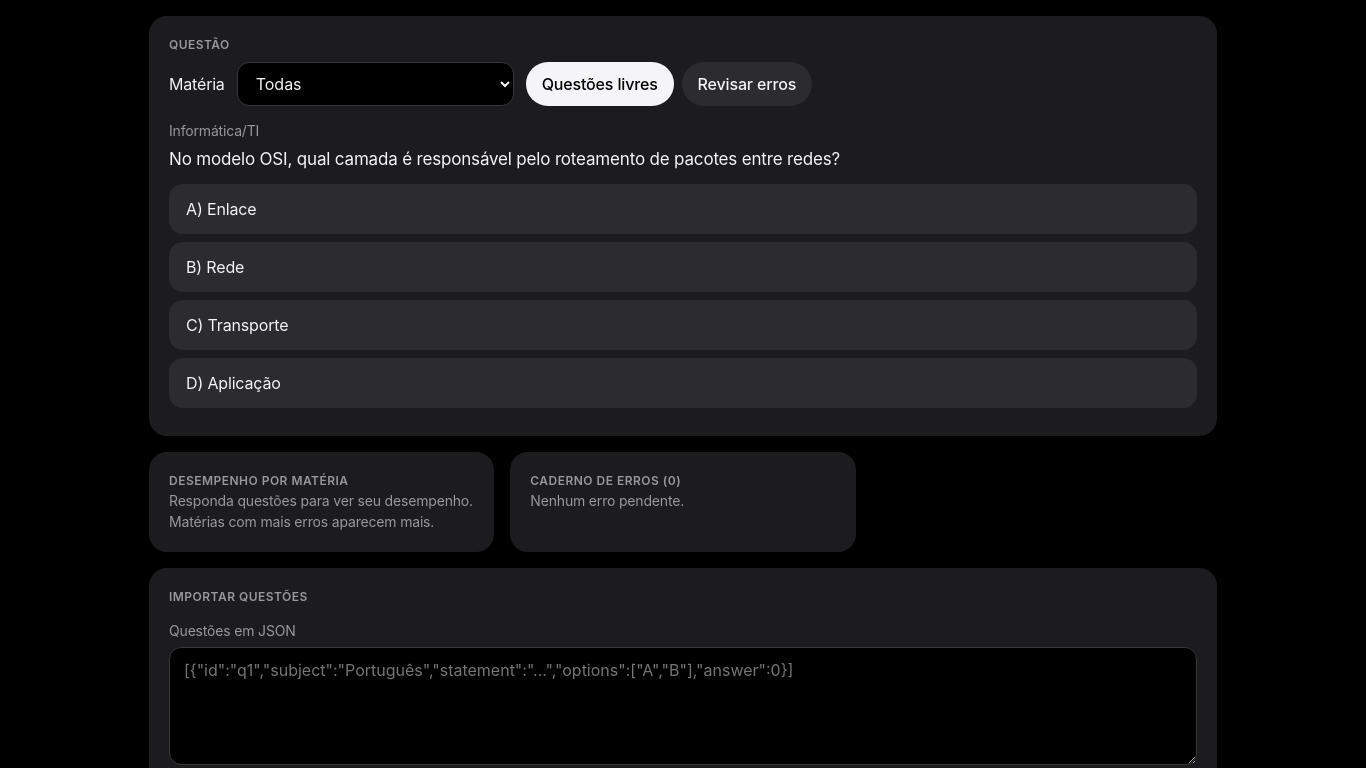
Test case: importar texto inválido mostra erro
The width and height of the screenshot is (1366, 768).
Click the text box labelled "Questões em JSON" at [683, 706], box [169, 647, 1197, 765]
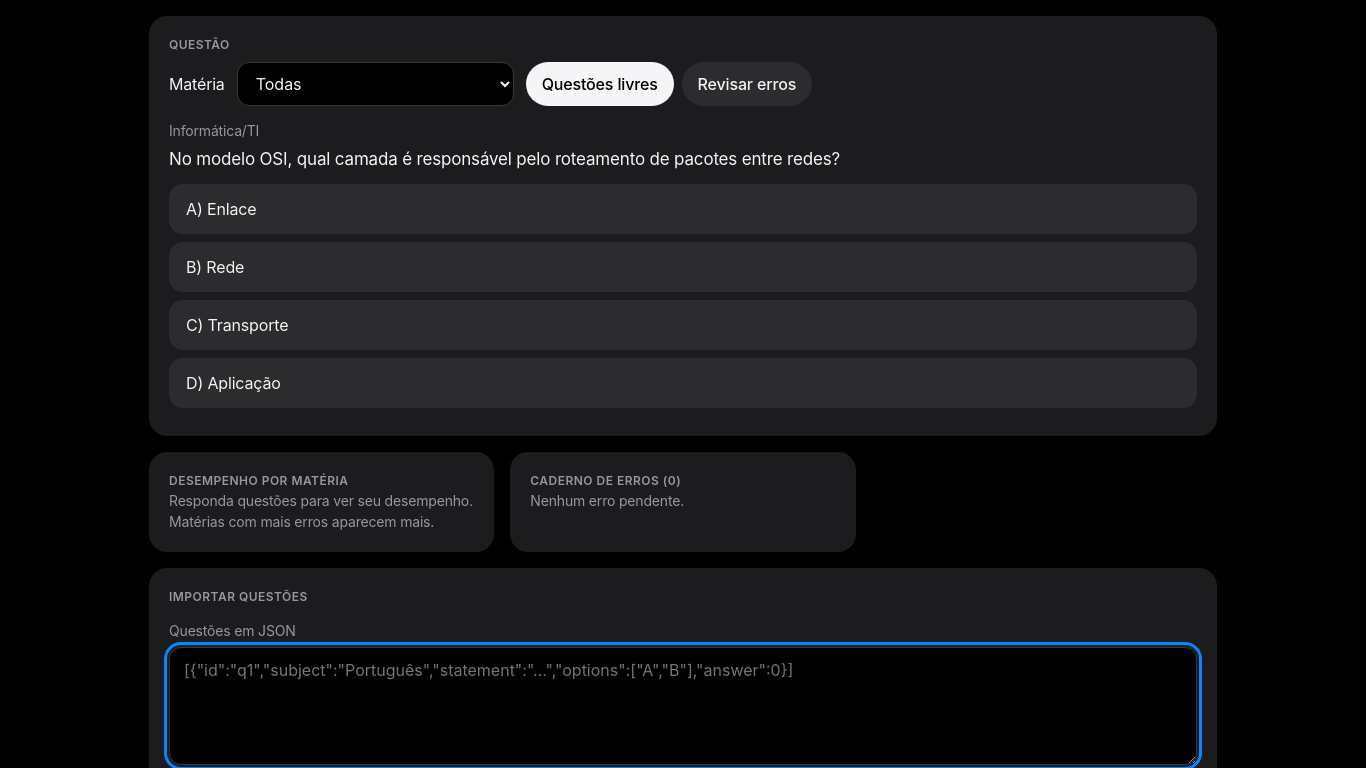
Type keys "abc"
(page scrolled)
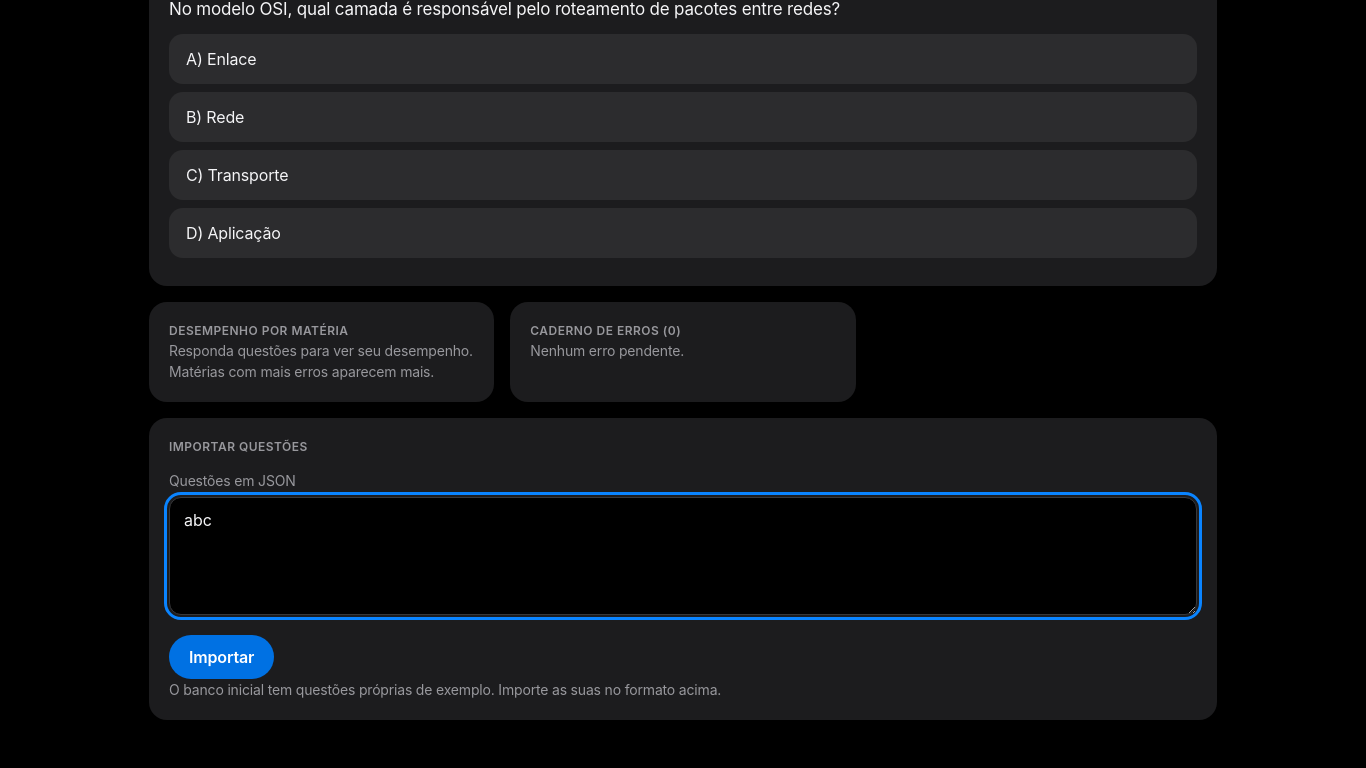
Click the button "Importar" at [222, 657], box [169, 635, 274, 679]
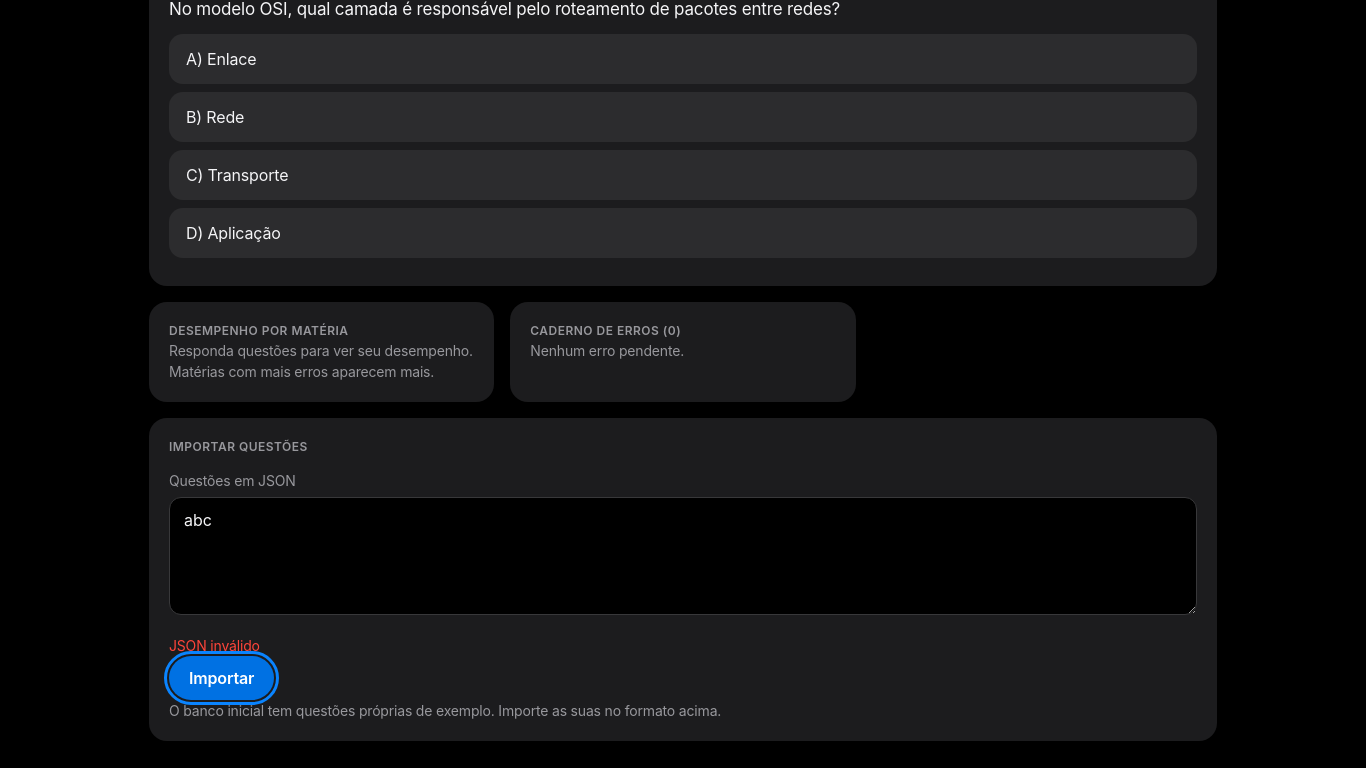
Expected: the text "JSON inválido" is shown, [169, 637, 260, 654]
